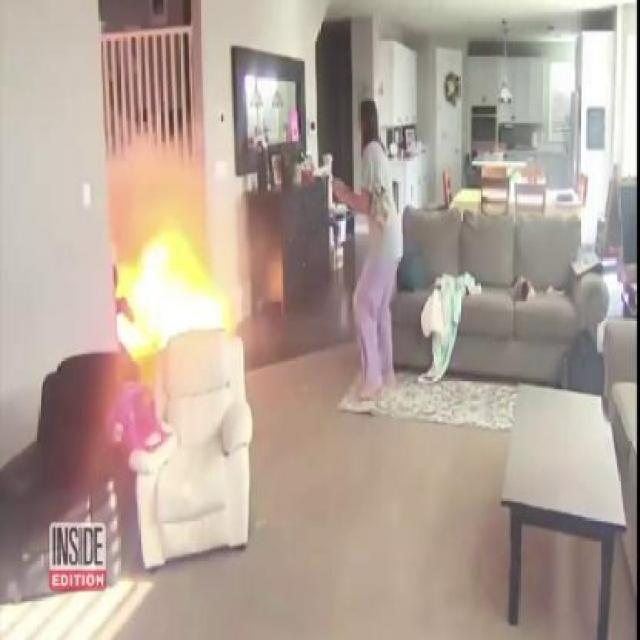fire: (112, 212, 255, 380)
